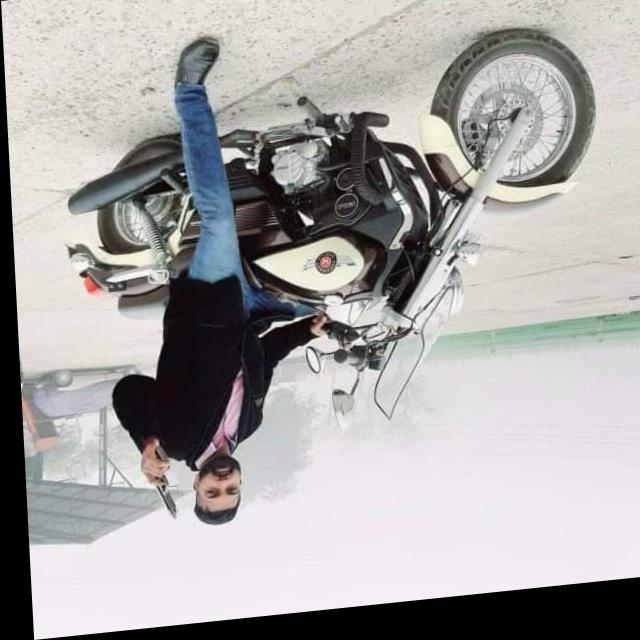handgun: (130, 442, 182, 525)
